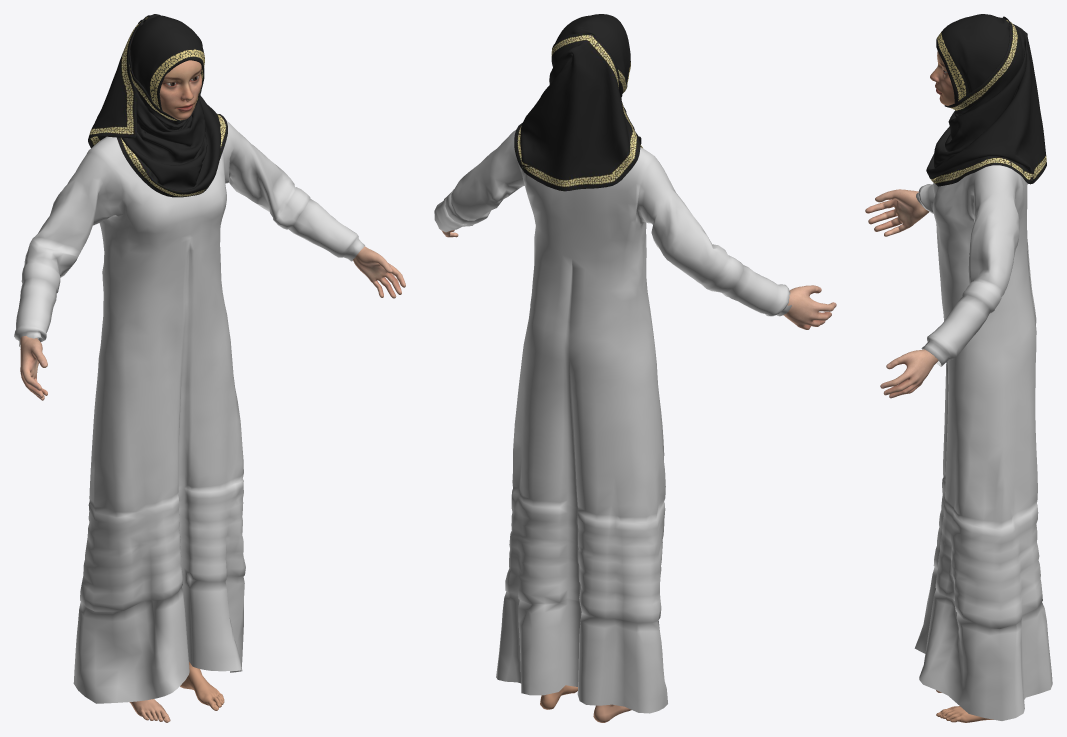
File: women-in-hijab.glb
3 renders of one model, left to right at view 1: azimuth 30°, elevation 25°; view 2: azimuth 150°, elevation 25°; view 3: azimuth 270°, elevation 25°, orthographic.
Visible parts, largest first — view 1: Female Legs 3d Model Good Topology.002_hijab_C_low1blin.002_, Female Legs 3d Model Good Topology.002; view 2: Female Legs 3d Model Good Topology.002_hijab_C_low1blin.002_, Female Legs 3d Model Good Topology.002; view 3: Female Legs 3d Model Good Topology.002_hijab_C_low1blin.002_, Female Legs 3d Model Good Topology.002.
Part boxes in pixels (<box>): Female Legs 3d Model Good Topology.002_hijab_C_low1blin.002_: <box>14,119,364,703</box>; Female Legs 3d Model Good Topology.002: <box>20,14,405,722</box>; Female Legs 3d Model Good Topology.002_hijab_C_low1blin.002_: <box>434,130,791,713</box>; Female Legs 3d Model Good Topology.002: <box>440,14,836,722</box>; Female Legs 3d Model Good Topology.002_hijab_C_low1blin.002_: <box>914,165,1052,720</box>; Female Legs 3d Model Good Topology.002: <box>865,14,1046,722</box>.
Size of the model in its own units: 5.14 by 8.8 by 2.18.
Materials: 7 (6 with a texture image).
